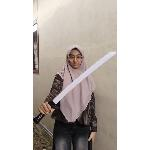Pedang: (33, 50, 117, 130)
